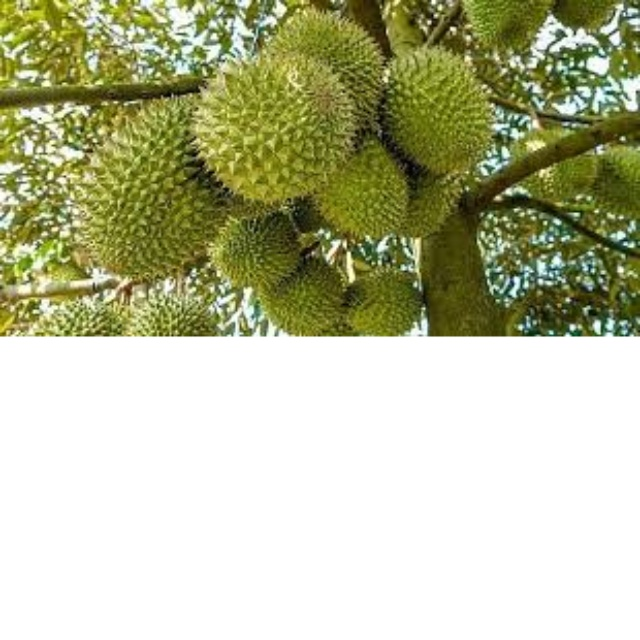sau_rieng: (76, 113, 229, 280), (203, 45, 352, 206), (376, 43, 492, 169), (297, 131, 410, 238), (205, 207, 300, 289), (264, 257, 340, 339), (346, 266, 426, 337)
